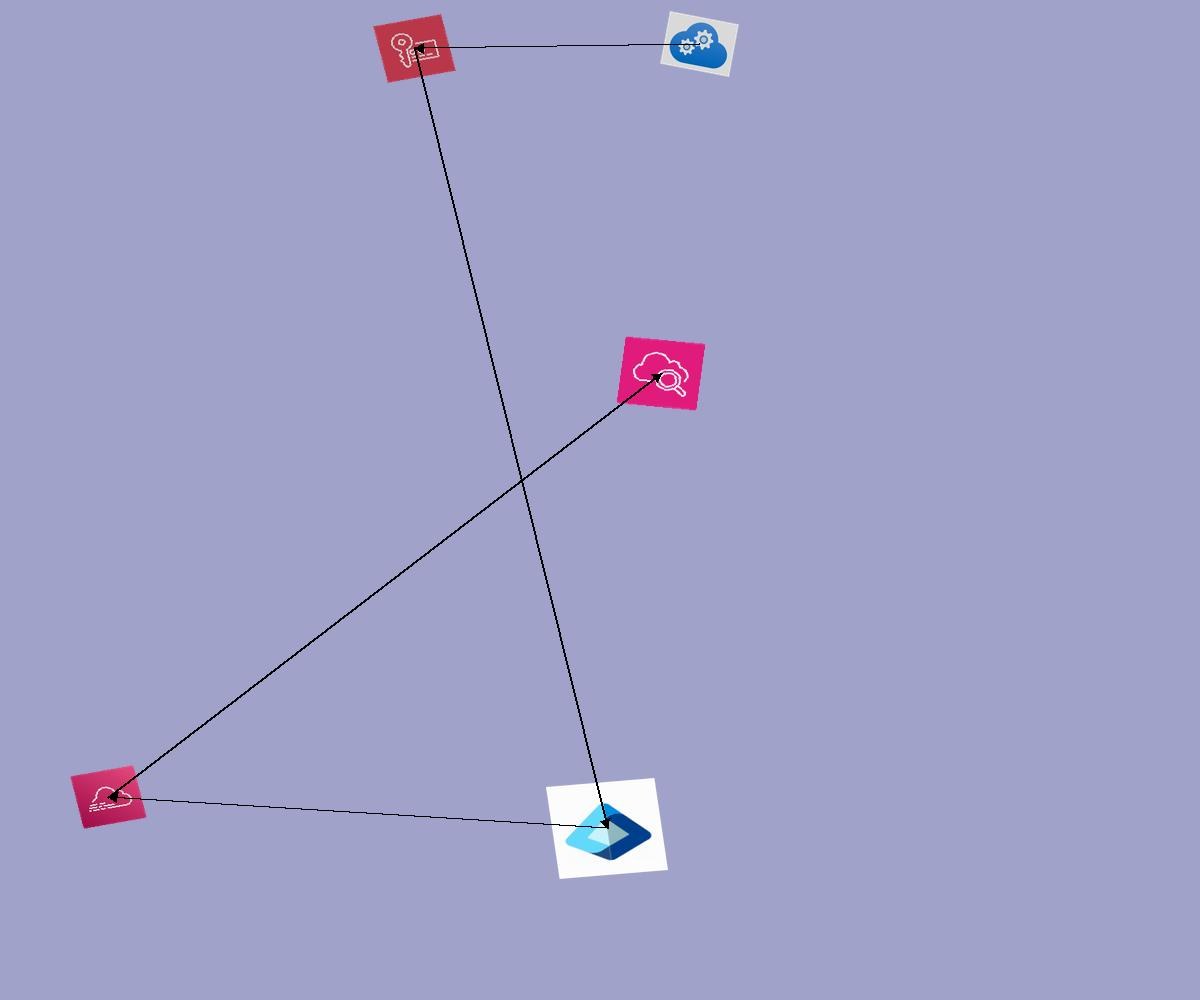AWS-CloudTrail: (70, 765, 147, 829)
AWS-CloudWatch: (616, 336, 706, 411)
AWS-Key-Management-Service: (373, 14, 456, 83)
Azure_cloud_services: (660, 11, 739, 77)
Azure_microsoft_entra: (546, 778, 668, 879)
